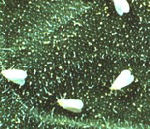whitefly: (52, 92, 88, 116), (109, 67, 136, 92), (2, 66, 27, 85), (112, 0, 130, 15)
